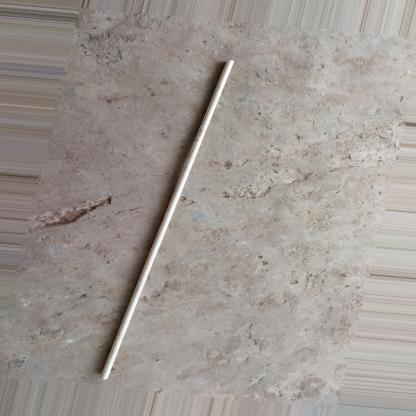PVC: (100, 61, 235, 380)
